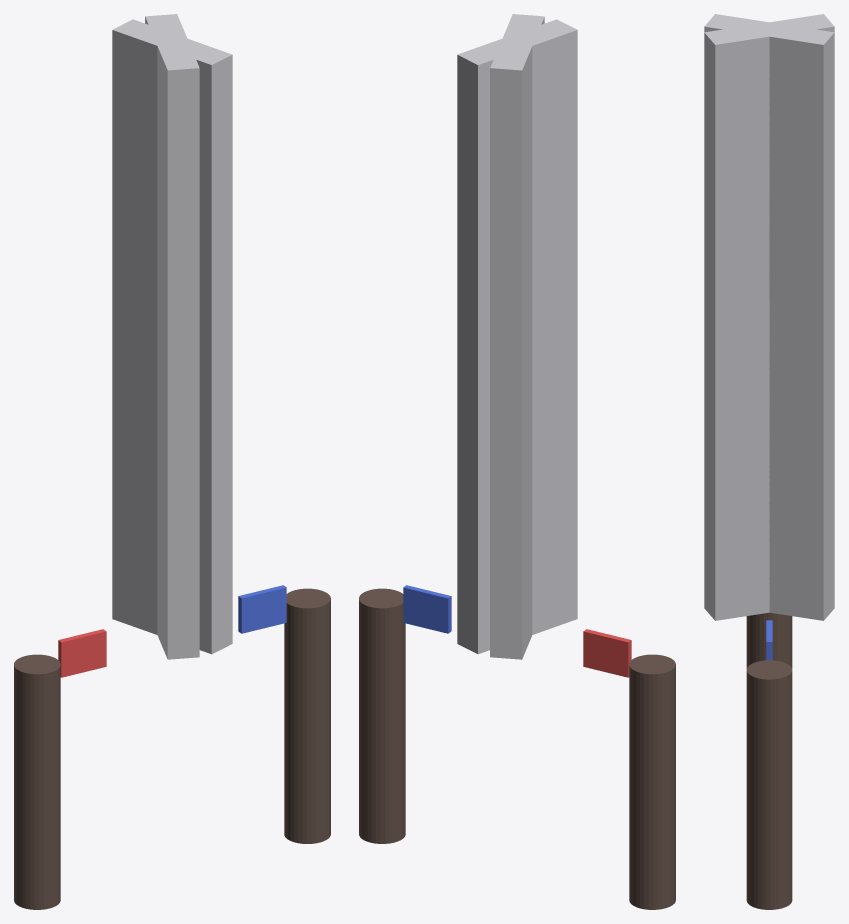
The model's file is dual_katana.glb.
The picture shows the model from 3 angles, left to right: view 1: azimuth 30°, elevation 25°; view 2: azimuth 150°, elevation 25°; view 3: azimuth 270°, elevation 25°; orthographic projection. The views are drawn at different scales.
Visible parts, largest first — view 1: Blade1, Blade2, Handle1, Handle2, Ribbon2, Ribbon1; view 2: Blade2, Blade1, Handle1, Handle2, Ribbon2, Ribbon1; view 3: Blade1, Blade2, Handle2, Handle1.
Boxes of the visible parts, x1,y1,x2,y2 form: Blade1: (112, 19, 232, 654); Blade2: (145, 14, 199, 659); Handle1: (14, 654, 60, 909); Handle2: (284, 588, 330, 843); Ribbon2: (238, 585, 286, 633); Ribbon1: (58, 629, 106, 677); Blade2: (457, 19, 577, 654); Blade1: (490, 14, 544, 659); Handle1: (629, 654, 675, 909); Handle2: (359, 588, 405, 843); Ribbon2: (403, 585, 451, 633); Ribbon1: (583, 629, 631, 677); Blade1: (704, 14, 834, 620); Blade2: (704, 14, 834, 620); Handle2: (746, 660, 792, 909); Handle1: (746, 612, 792, 668).
Size of the model in its own units: 0.276 by 0.7 by 0.1025.
